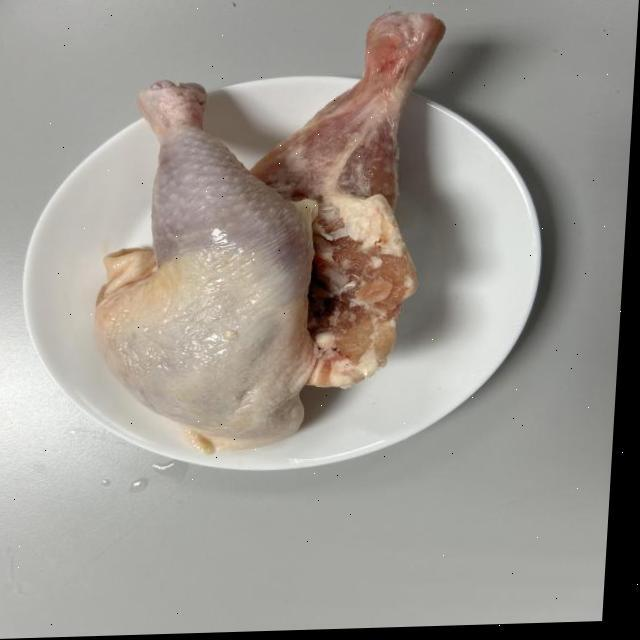quater: (98, 79, 320, 442), (257, 8, 447, 406)
